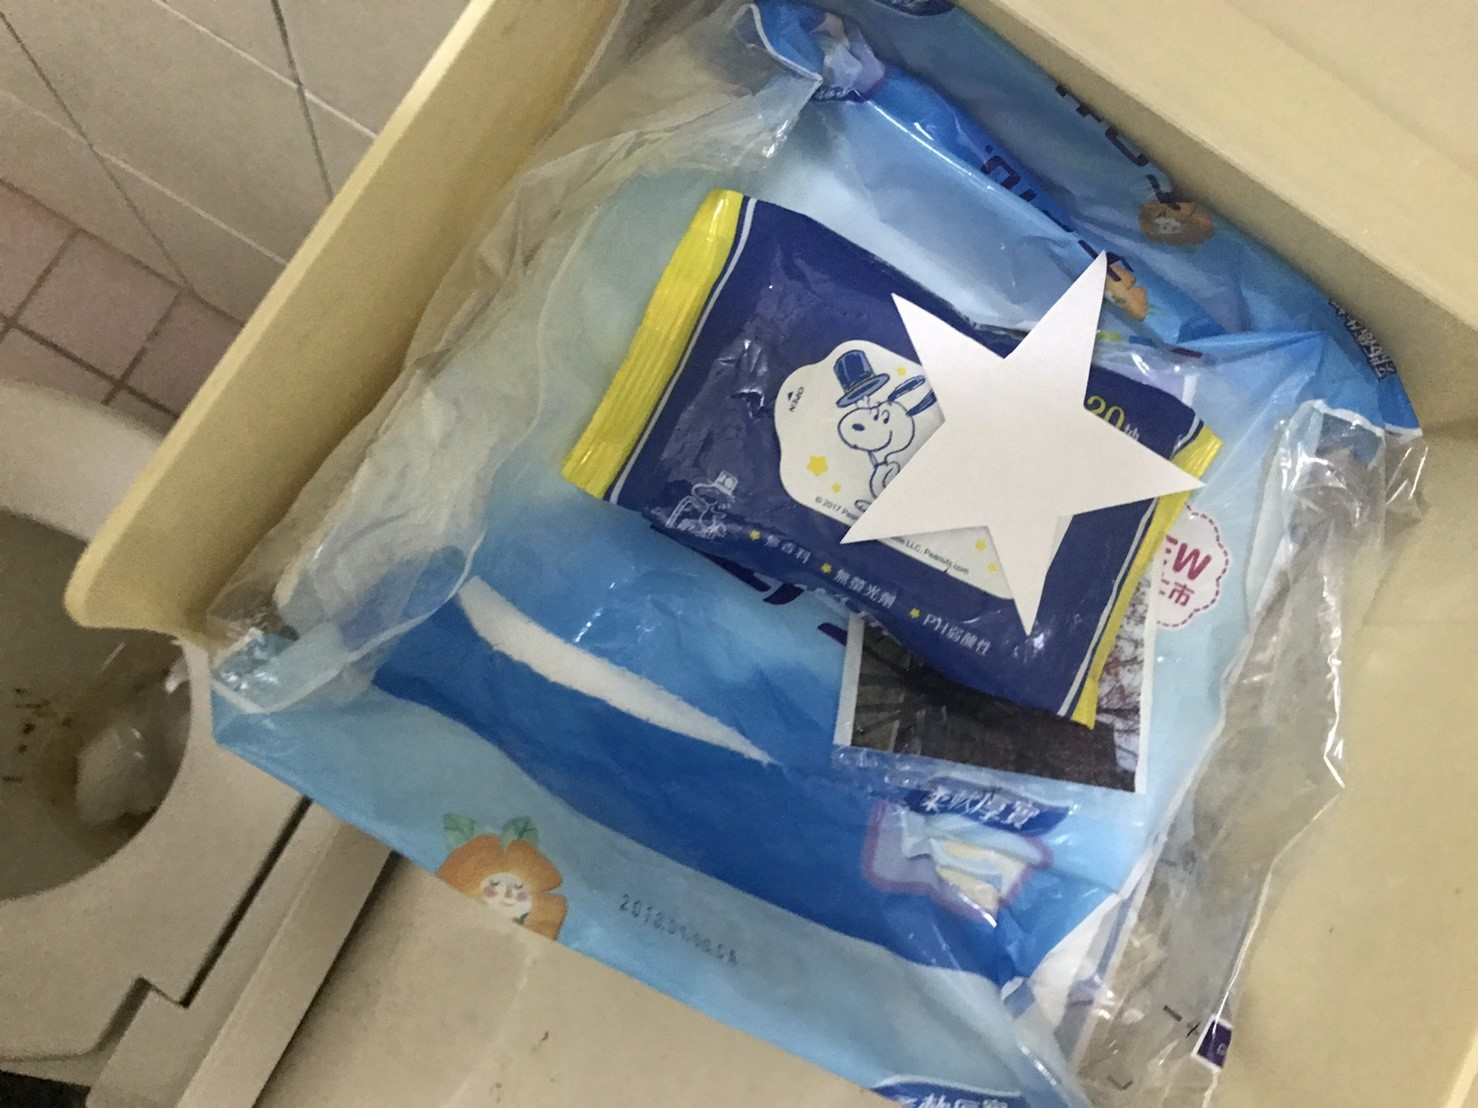star: (833, 244, 1211, 642)
